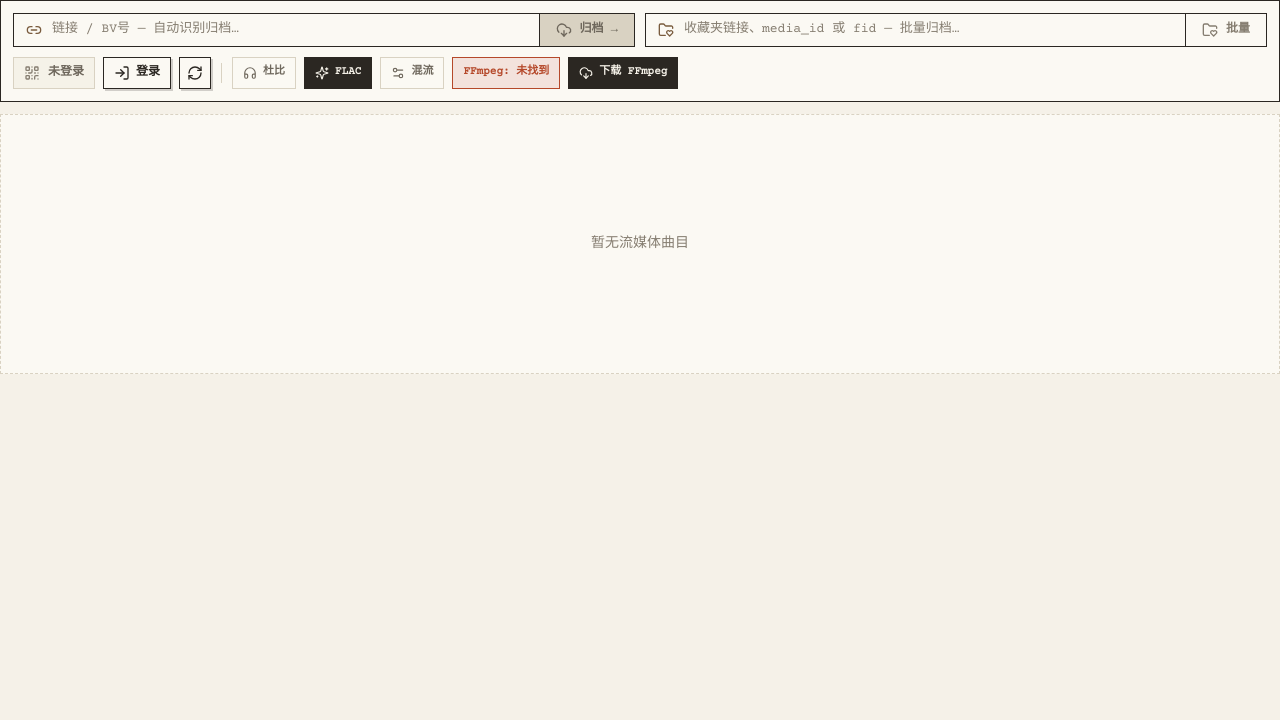
流媒体页 · 多 P 视频导入（BILI-05） › 在弹窗里取消：不导入，输入框内容保留
Type "BV1xx411c7mD" into the field with placeholder "链接 / BV号 — 自动识别归档…" at (289, 30), box [52,20,527,40]
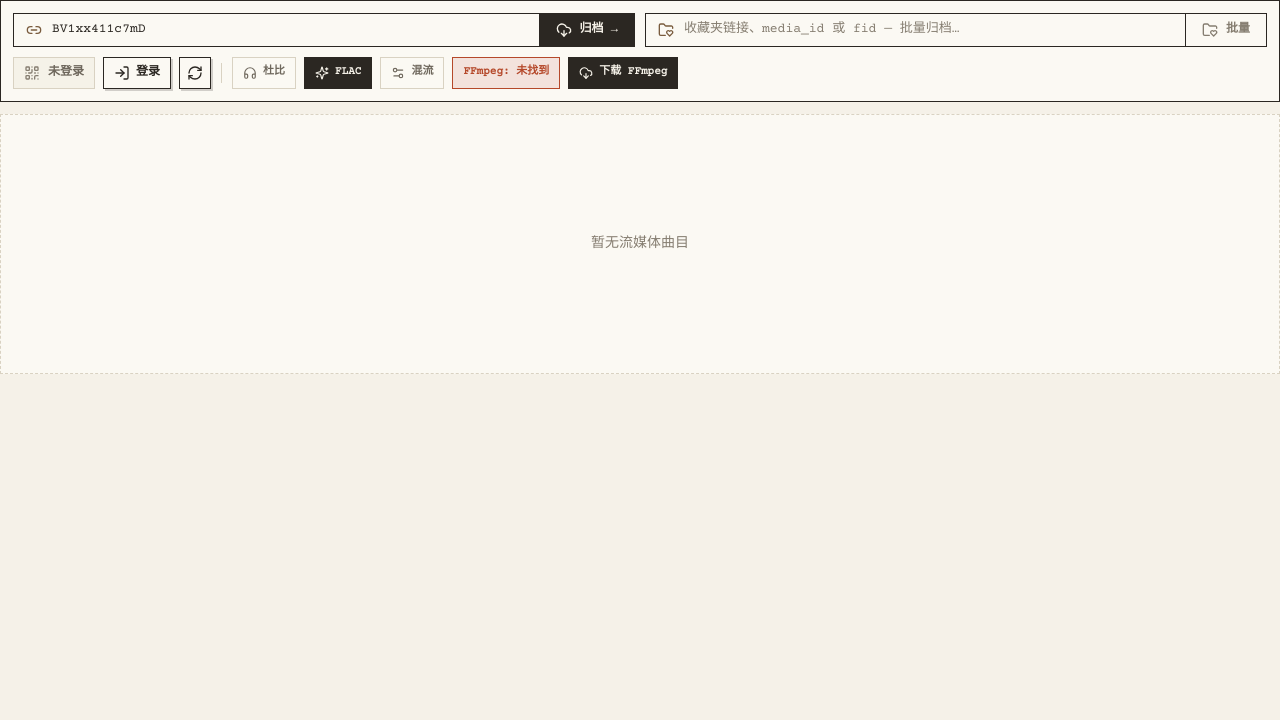
Click the button "归档 →" at (586, 30), box [539,14,634,46]
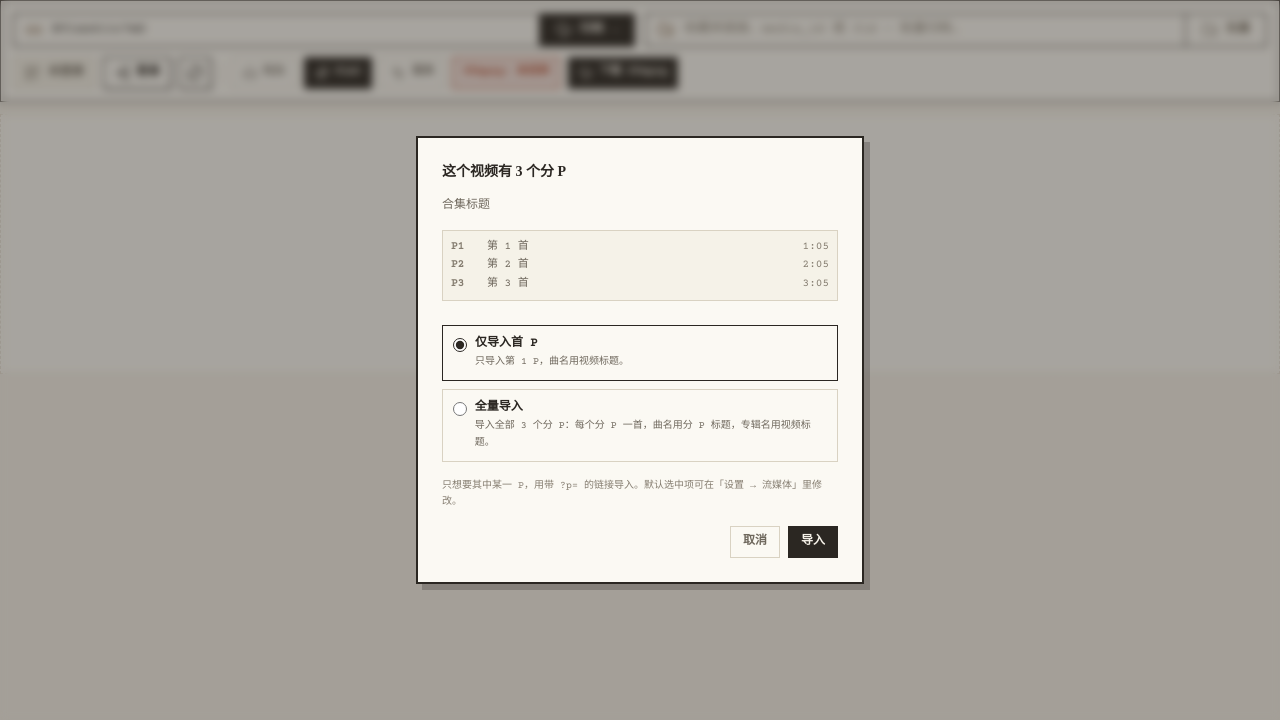
Click the button "取消" at (755, 542), box [730,526,780,558]
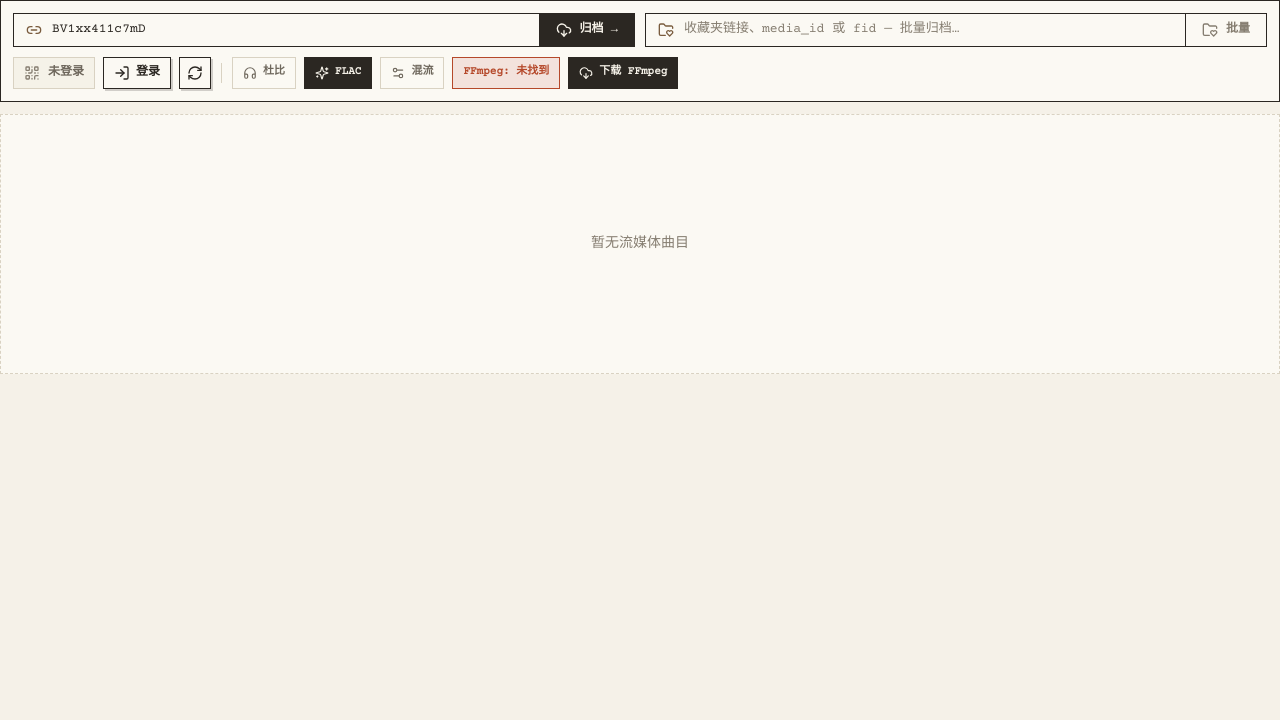
Result: the button "归档 →" is enabled at [539,14,634,46]
Result: the dialog is gone
